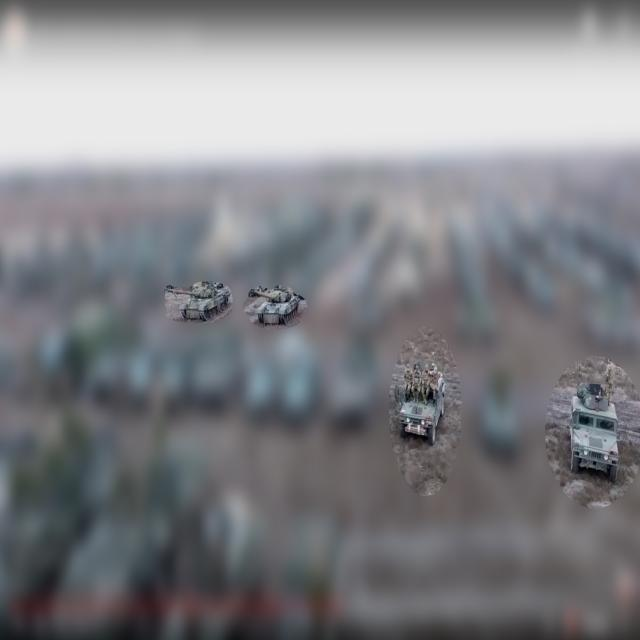tank: (165, 282, 234, 324), (249, 286, 301, 328)
